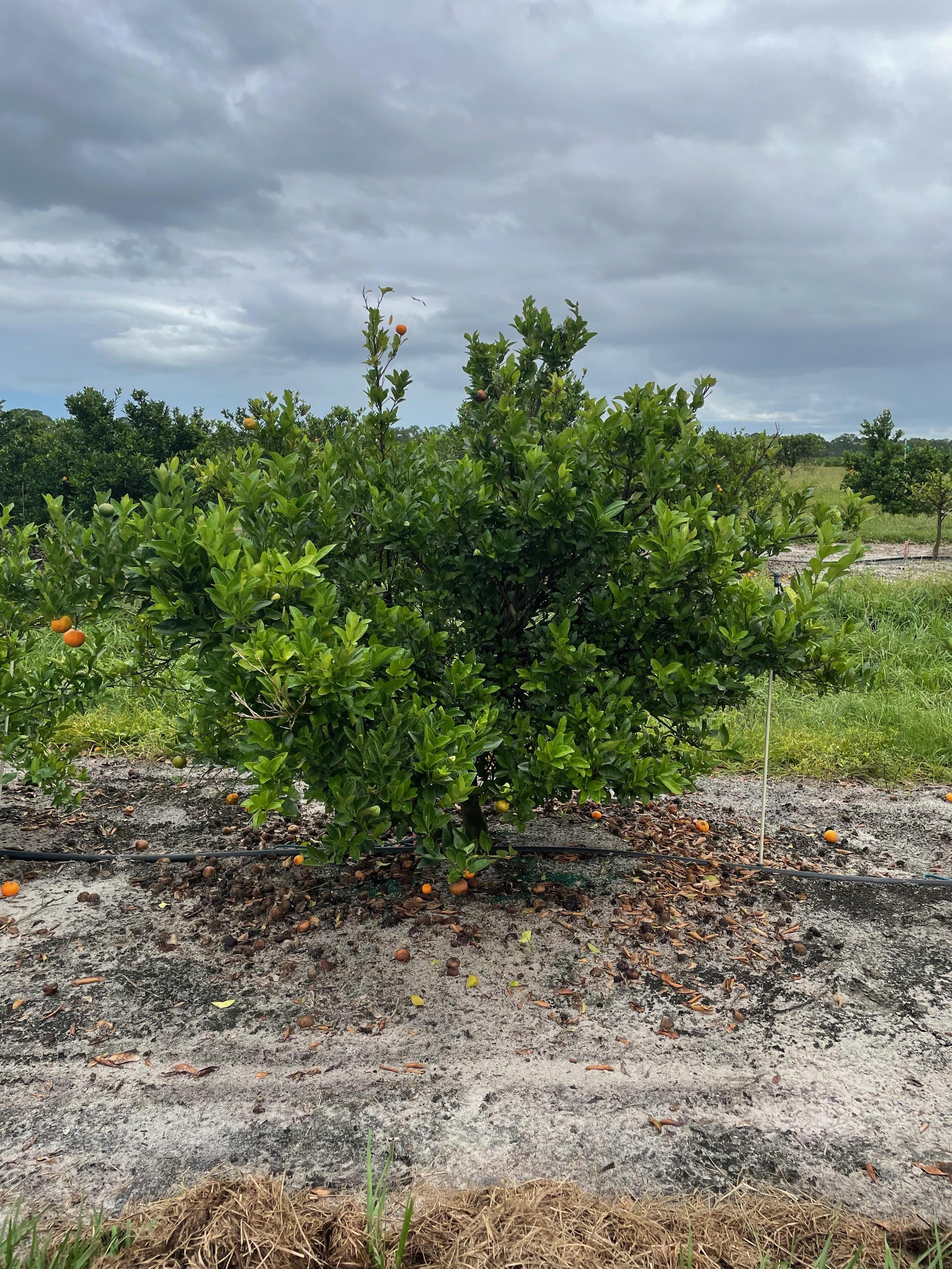fruit_on_ground: (61, 626, 88, 649), (49, 612, 74, 636), (492, 797, 512, 815), (170, 753, 189, 770), (240, 415, 258, 431), (474, 387, 490, 403), (224, 791, 240, 807), (394, 322, 408, 337)
fruit_on_tree: (0, 878, 20, 898), (444, 954, 463, 971), (448, 879, 468, 895), (467, 875, 484, 892), (394, 946, 411, 963), (694, 817, 711, 833), (823, 828, 840, 844), (296, 918, 312, 934), (462, 865, 478, 881), (201, 863, 217, 878), (420, 880, 434, 895), (135, 837, 150, 851), (291, 853, 306, 867), (666, 801, 680, 815), (352, 867, 367, 880), (590, 809, 603, 821), (943, 789, 952, 804), (123, 804, 135, 815)
